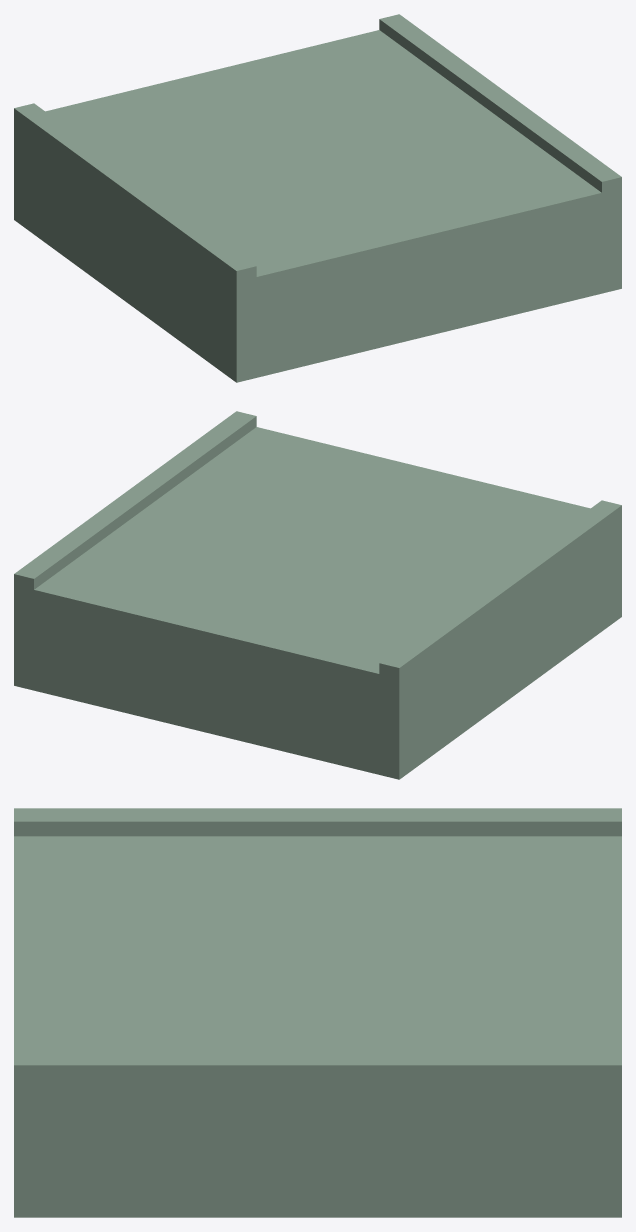
The model's file is wfc_straightRoad.glb.
3 views of the same model, one above another, from view 1: azimuth 30°, elevation 25°; view 2: azimuth 150°, elevation 25°; view 3: azimuth 270°, elevation 25° (orthographic). The views are drawn at different scales.
Parts seen in each view (by area): view 1: StraightRoad-col; view 2: StraightRoad-col; view 3: StraightRoad-col.
Part boxes in pixels (left/top/right/bottom): StraightRoad-col: left=14, top=14, right=621, bottom=382; StraightRoad-col: left=14, top=411, right=621, bottom=779; StraightRoad-col: left=14, top=808, right=621, bottom=1217.
Size of the model in its own units: 8 by 2.22 by 8.
